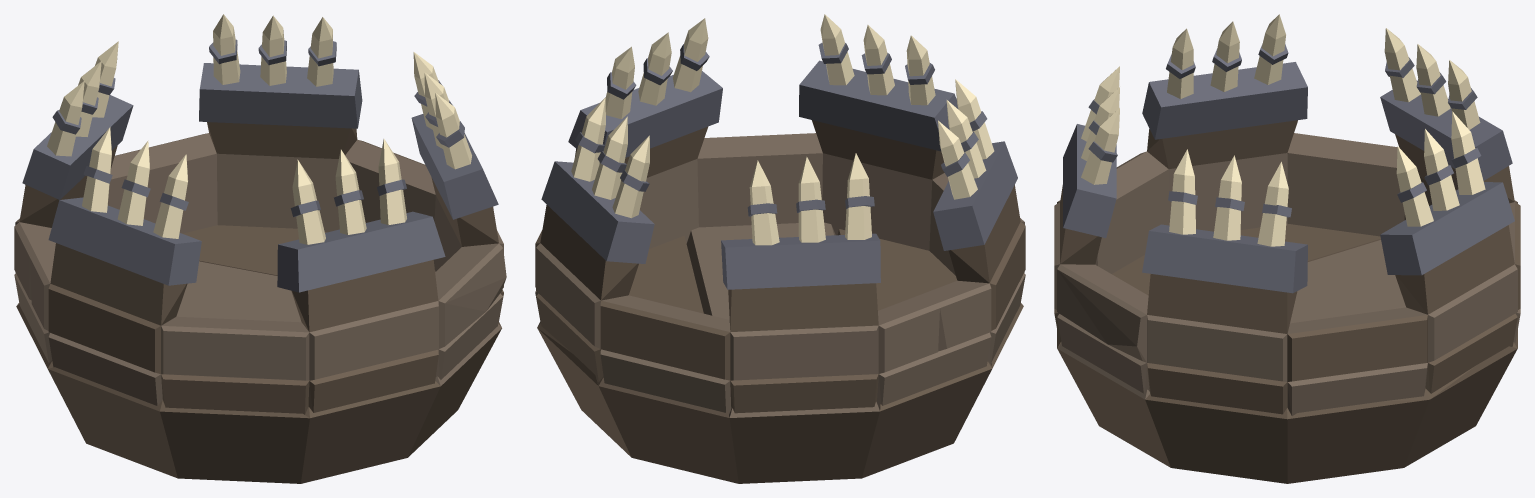
Rendered from _TOWER_4_UP_01.fbx.
The picture shows the model from 3 angles, left to right: view 1: azimuth 30°, elevation 25°; view 2: azimuth 150°, elevation 25°; view 3: azimuth 270°, elevation 25°; orthographic projection.
Parts seen in each view (by area): view 1: TOWER_4_UP_01; view 2: TOWER_4_UP_01; view 3: TOWER_4_UP_01.
Boxes of the visible parts, left/top/right/bottom form: TOWER_4_UP_01: left=14, top=14, right=506, bottom=483; TOWER_4_UP_01: left=535, top=14, right=1025, bottom=483; TOWER_4_UP_01: left=1054, top=14, right=1520, bottom=483.
Bounding box in the file's own units: 567 × 401 × 543.
